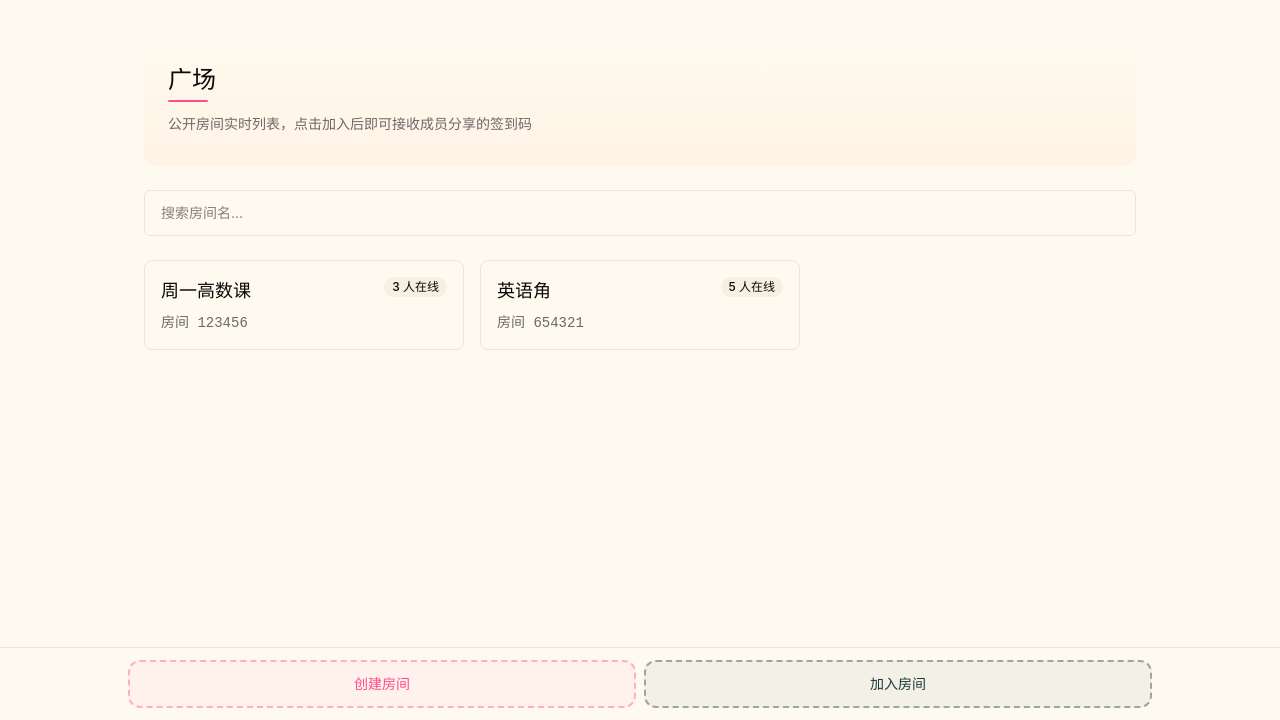
Scenario: Plaza 广场页 › 搜索框按房间名过滤
Expected: the text "周一高数课" is shown, [161,277,251,305]
Type "高数" into the field with placeholder "搜索房间名…" at (640, 213), box [144,190,1136,236]
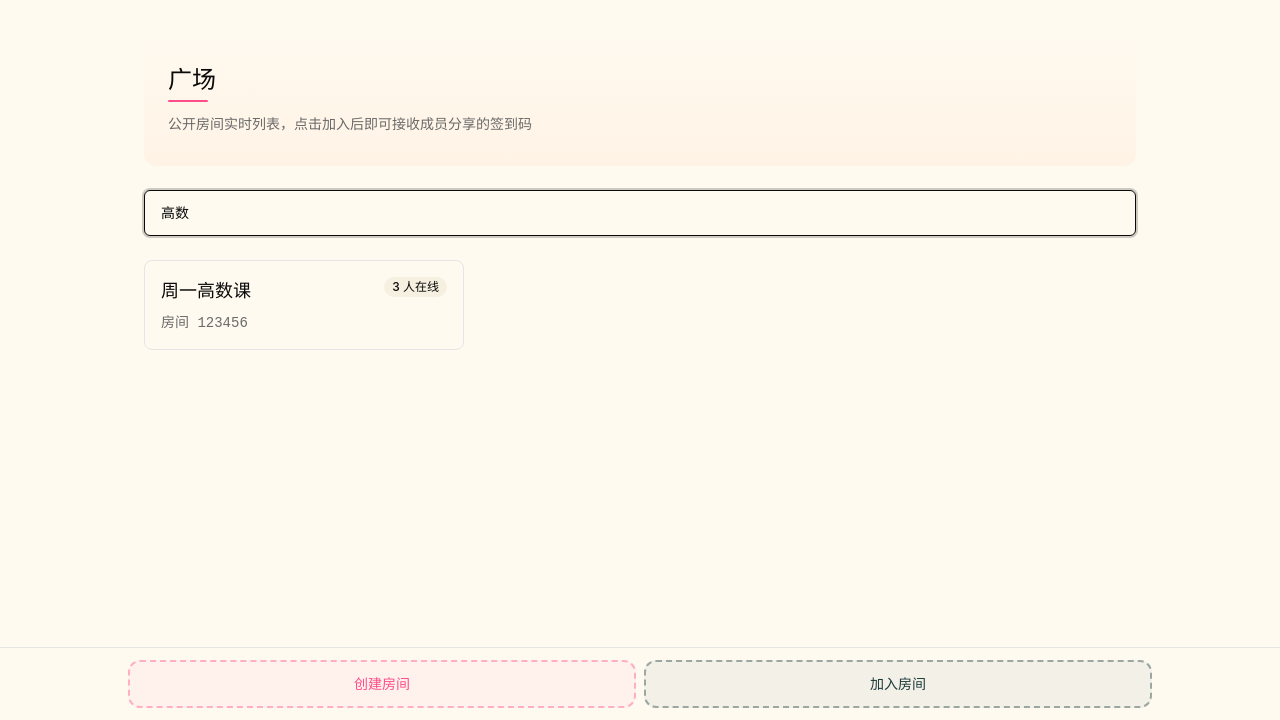
Expected: the text "周一高数课" is shown, [161,277,251,305]
Now the button "英语角" is gone
